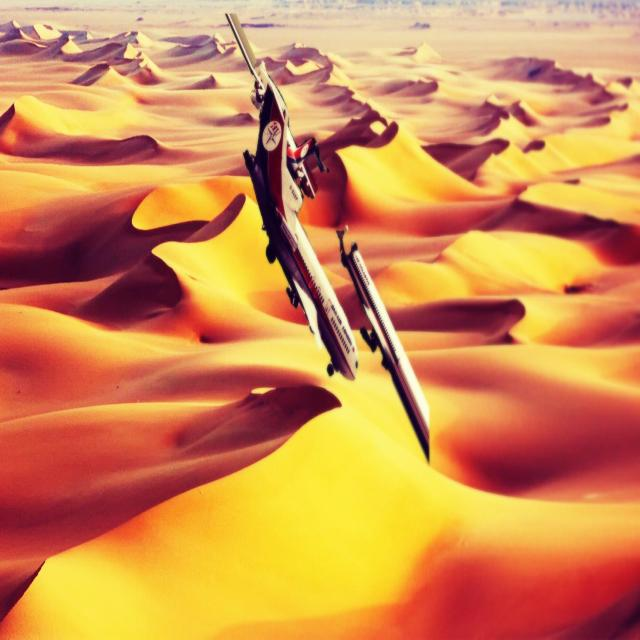airplane: (242, 83, 358, 383), (334, 224, 430, 462), (225, 12, 318, 197)
